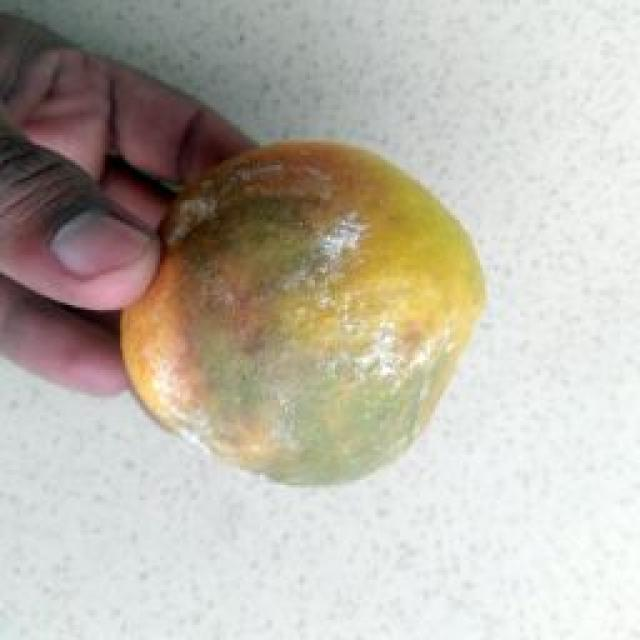Bad_Orange: (121, 142, 485, 483)
